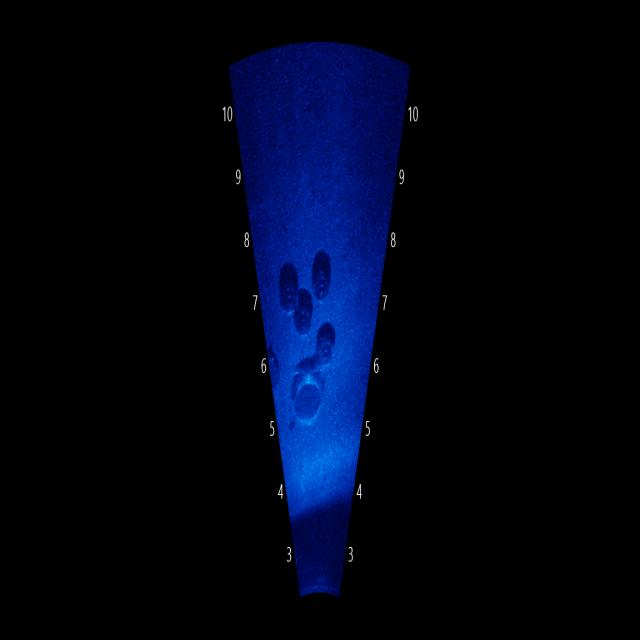circle: (284, 370, 329, 442), (270, 252, 304, 318), (288, 278, 318, 349), (309, 251, 344, 308), (310, 318, 340, 375)
